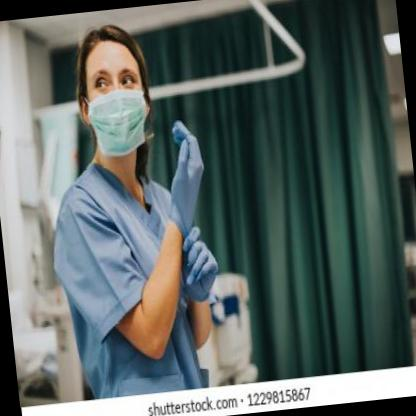Gloves: (158, 116, 210, 240), (174, 224, 224, 306)
